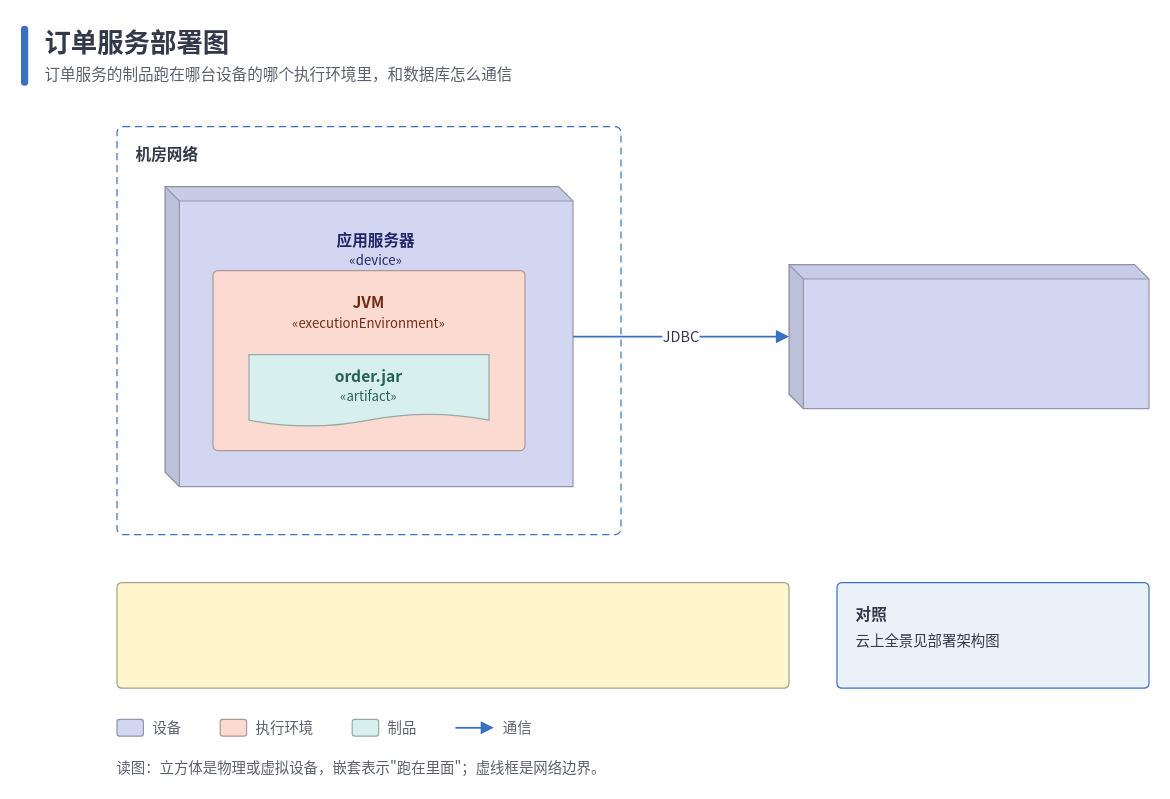
Image size: 1170x799. Some labels were removed from this diagram. The box of each missing label's shape, as (x1, y1, x2, y2) in pixels:
数据库服务器 «device» · MySQL 8: (788, 263, 1149, 409)
约定 一台设备一个立方体，里面从外到内是执行环境、制品 设备之间的线写通信协议: (116, 581, 789, 688)
